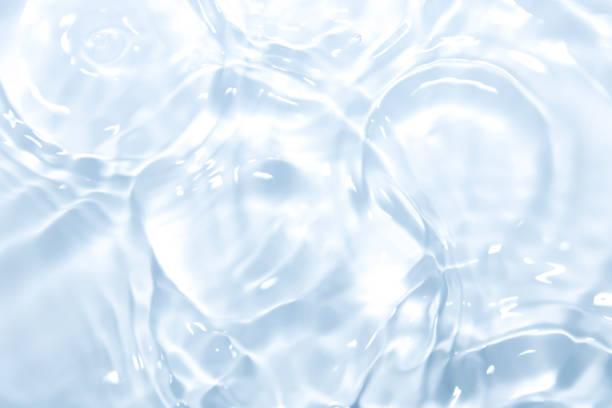Non_Gorille: (76, 12, 520, 390)
